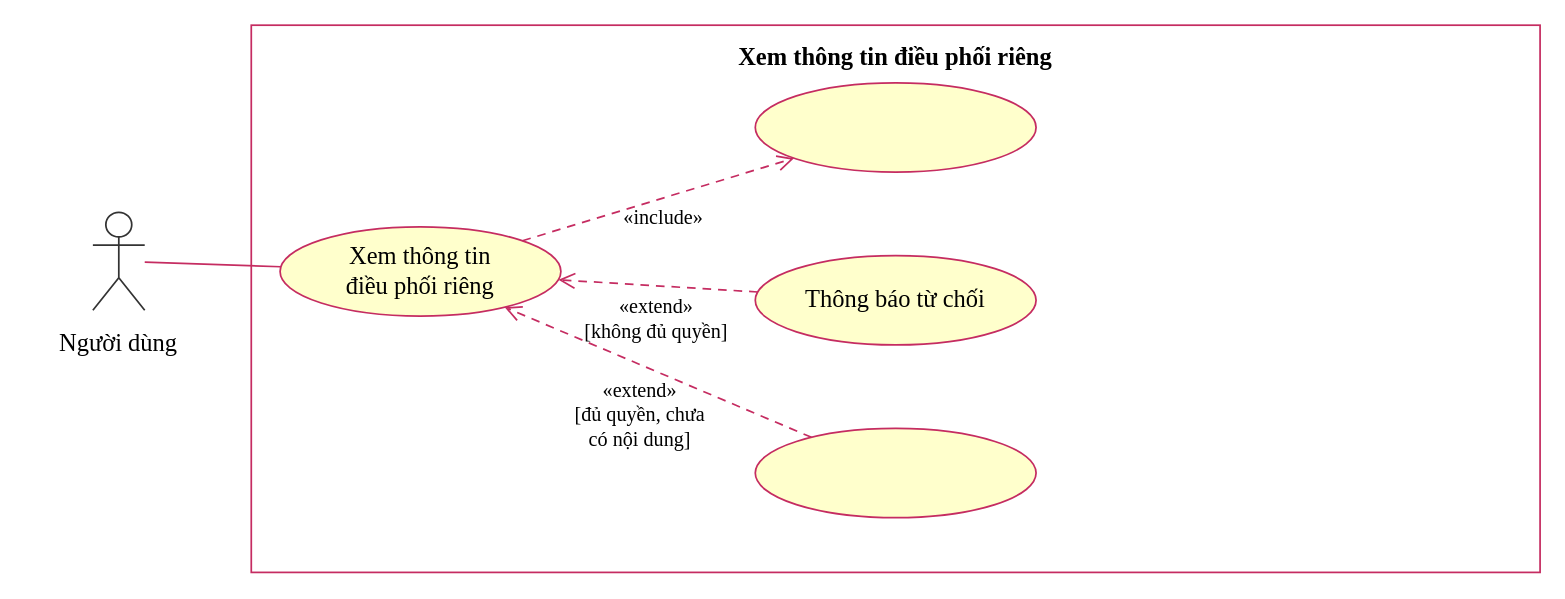
Some shapes in this 1565 by 599 pixel diagram are drawn without their labels. The centre of each missing label's shape, as x and y in pixels:
"Kiểm tra quyền xem thông tin riêng" belongs at point (895, 126).
"Thông báo chưa có hướng dẫn" belongs at point (895, 472).
